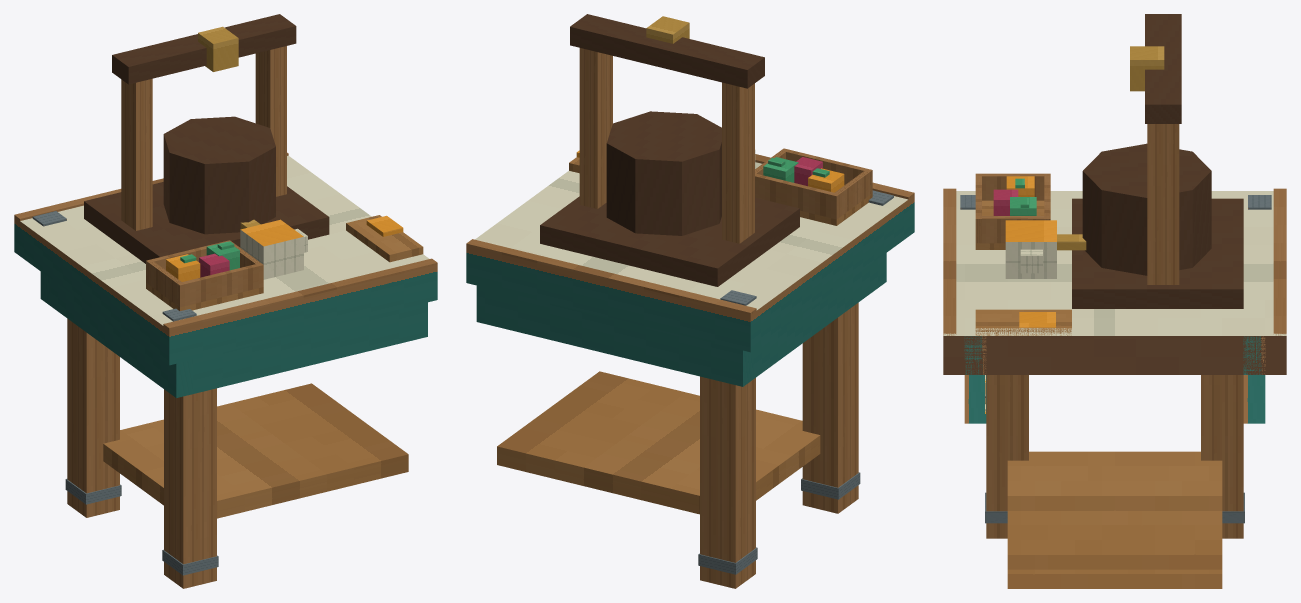
Rendered from juice_table_left.obj.
The picture shows the model from 3 angles, left to right: view 1: azimuth 30°, elevation 25°; view 2: azimuth 150°, elevation 25°; view 3: azimuth 270°, elevation 25°; orthographic projection. The views are drawn at different scales.
Parts seen in each view (by area): view 1: part_1_clean_countertop, part_8_single_lower_shelf, part_27_low_poly_eight_sided_press_barrel, part_3_simple_leg_2_12, part_2_simple_leg_2_2, part_7_simple_apron_13, part_22_press_base, part_25_press_crossbeam, part_23_press_support_3_5, part_19_end_apron_2, part_24_press_support_11_5, part_46_simple_collection_cup (+11 smaller); view 2: part_1_clean_countertop, part_8_single_lower_shelf, part_27_low_poly_eight_sided_press_barrel, part_22_press_base, part_2_simple_leg_2_2, part_6_simple_apron_2, part_3_simple_leg_2_12, part_25_press_crossbeam, part_23_press_support_3_5, part_24_press_support_11_5, part_19_end_apron_2, part_17_oak_breadboard_edge_0 (+7 smaller); view 3: part_1_clean_countertop, part_8_single_lower_shelf, part_27_low_poly_eight_sided_press_barrel, part_22_press_base, part_24_press_support_11_5, part_2_simple_leg_2_2, part_3_simple_leg_2_12, part_25_press_crossbeam, part_46_simple_collection_cup, part_18_oak_breadboard_edge_15_4, part_17_oak_breadboard_edge_0, part_58_oak_chopping_board (+11 smaller).
Part boxes in pixels (bbox=[...]): part_1_clean_countertop: bbox=[14, 155, 437, 365]; part_8_single_lower_shelf: bbox=[103, 383, 408, 518]; part_27_low_poly_eight_sided_press_barrel: bbox=[163, 116, 275, 234]; part_3_simple_leg_2_12: bbox=[164, 388, 216, 588]; part_2_simple_leg_2_2: bbox=[67, 318, 119, 517]; part_7_simple_apron_13: bbox=[193, 302, 427, 393]; part_22_press_base: bbox=[84, 182, 329, 263]; part_25_press_crossbeam: bbox=[112, 14, 296, 84]; part_23_press_support_3_5: bbox=[121, 78, 152, 230]; part_19_end_apron_2: bbox=[50, 278, 192, 397]; part_24_press_support_11_5: bbox=[255, 46, 286, 196]; part_46_simple_collection_cup: bbox=[240, 219, 303, 279]; part_1_clean_countertop: bbox=[466, 162, 914, 352]; part_8_single_lower_shelf: bbox=[497, 371, 820, 514]; part_27_low_poly_eight_sided_press_barrel: bbox=[606, 111, 721, 235]; part_22_press_base: bbox=[540, 196, 799, 286]; part_2_simple_leg_2_2: bbox=[700, 376, 755, 588]; part_6_simple_apron_2: bbox=[476, 285, 753, 386]; part_3_simple_leg_2_12: bbox=[802, 302, 858, 513]; part_25_press_crossbeam: bbox=[570, 14, 764, 88]; part_23_press_support_3_5: bbox=[722, 82, 754, 243]; part_24_press_support_11_5: bbox=[579, 48, 612, 208]; part_19_end_apron_2: bbox=[753, 253, 886, 378]; part_17_oak_breadboard_edge_0: bbox=[466, 239, 756, 314]; part_1_clean_countertop: bbox=[943, 191, 1286, 374]; part_8_single_lower_shelf: bbox=[1007, 451, 1222, 588]; part_27_low_poly_eight_sided_press_barrel: bbox=[1082, 143, 1211, 275]; part_22_press_base: bbox=[1072, 198, 1243, 308]; part_24_press_support_11_5: bbox=[1147, 124, 1179, 284]; part_2_simple_leg_2_2: bbox=[1201, 375, 1243, 538]; part_3_simple_leg_2_12: bbox=[986, 375, 1028, 538]; part_25_press_crossbeam: bbox=[1145, 14, 1181, 123]; part_46_simple_collection_cup: bbox=[1005, 220, 1056, 278]; part_18_oak_breadboard_edge_15_4: bbox=[943, 188, 956, 335]; part_17_oak_breadboard_edge_0: bbox=[1273, 188, 1286, 335]; part_58_oak_chopping_board: bbox=[975, 309, 1071, 335].
Bounding box in the file's own units: 1 × 1.69 × 1.
